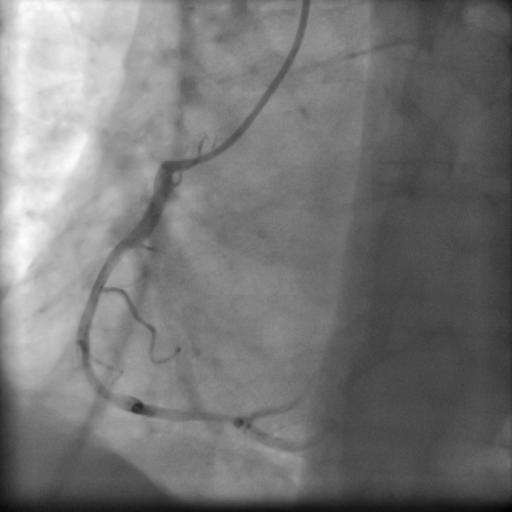Stenosis: (181, 405, 240, 430)
